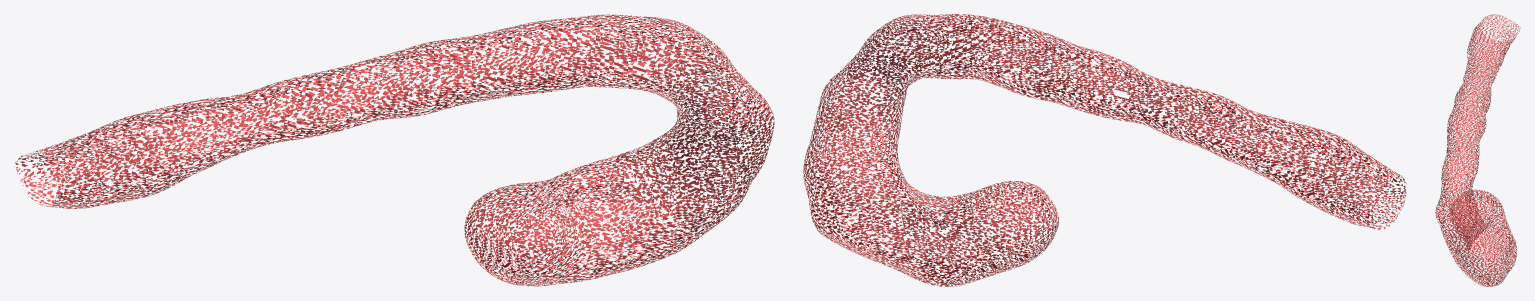
Rendered from aorta.glb.
3 renders of one model, left to right at view 1: azimuth 30°, elevation 25°; view 2: azimuth 150°, elevation 25°; view 3: azimuth 270°, elevation 25°, orthographic. The views are drawn at different scales.
Size of the model in its own units: 185 by 73.83 by 39.46.
